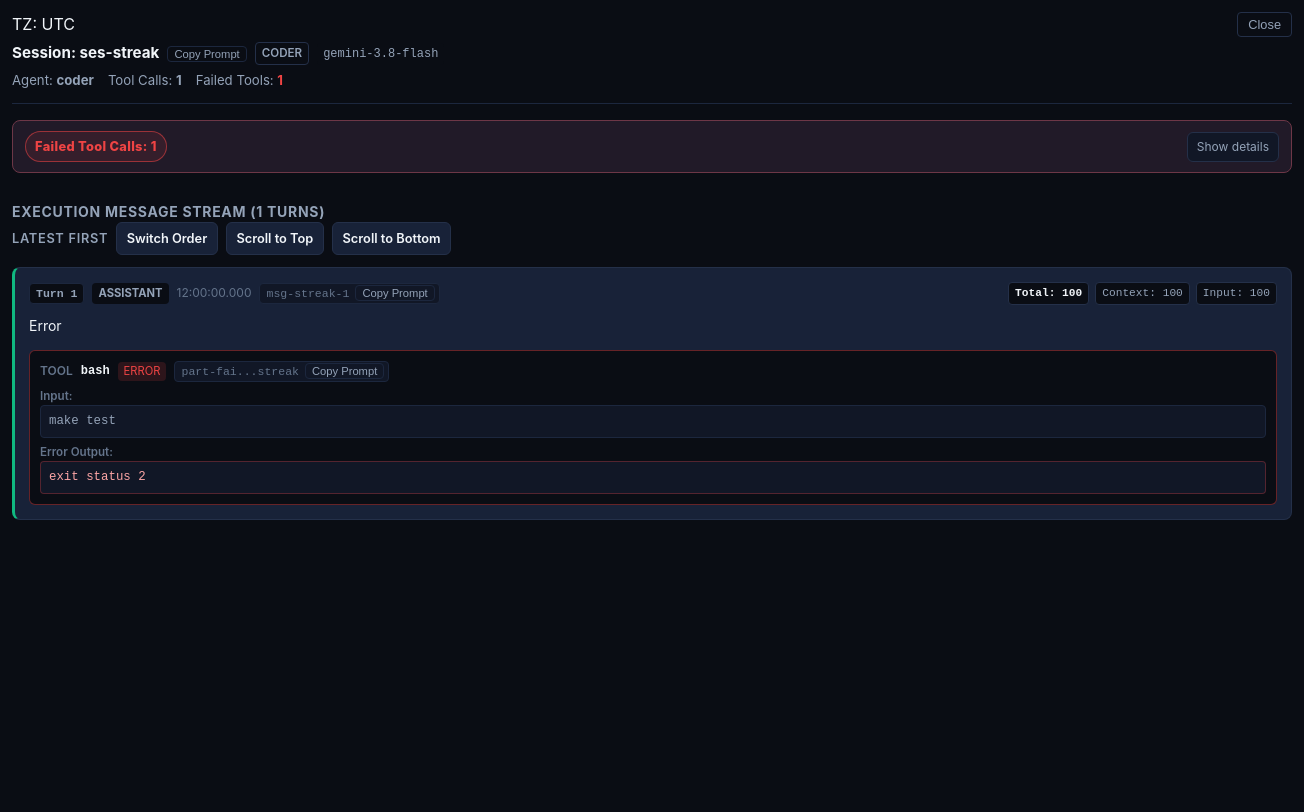
Test: LiveTraceInspector Component › wires exact anomaly streak count to FailedToolAlertCard
Click the button with test id "failed-tools-toggle-btn": (1233, 147) 1187,132 -> 1279,162
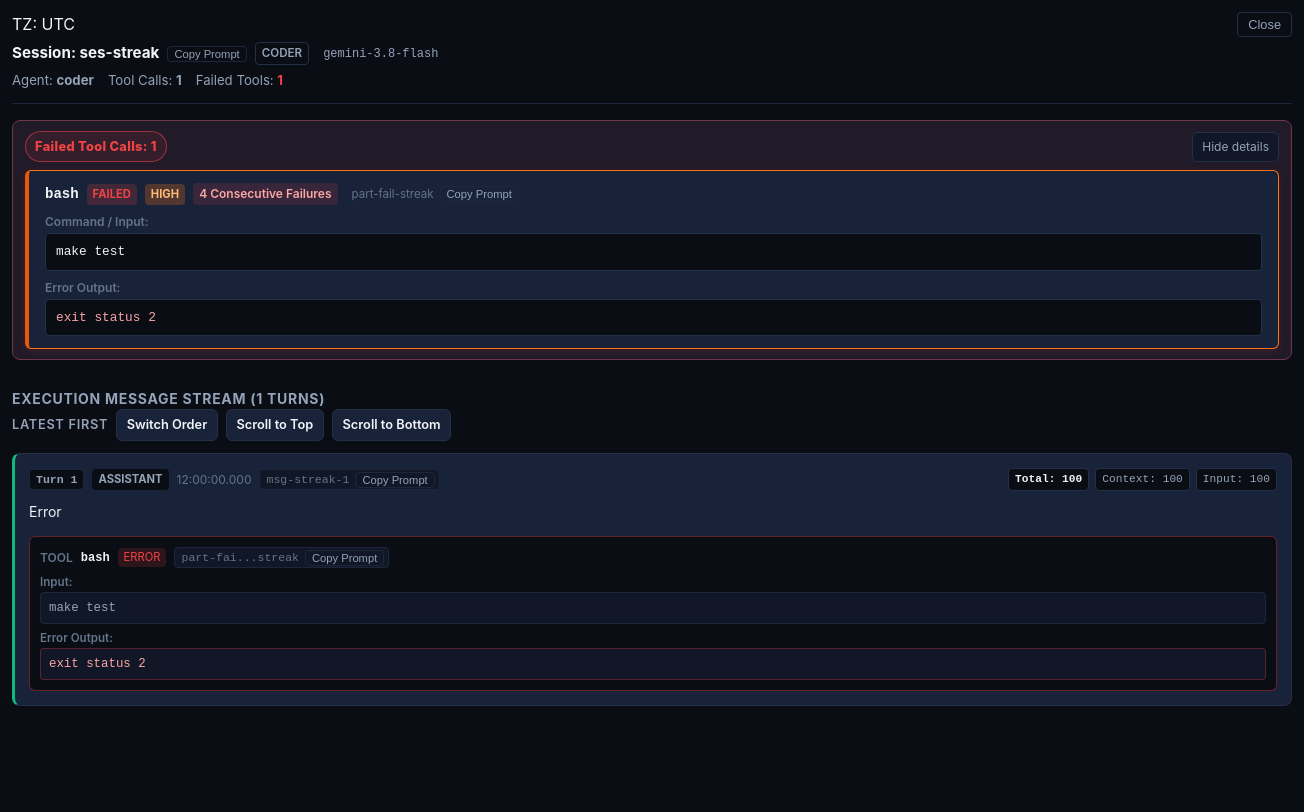
Check: the text "4 Consecutive Failures" is shown, box 193,183 -> 338,205
